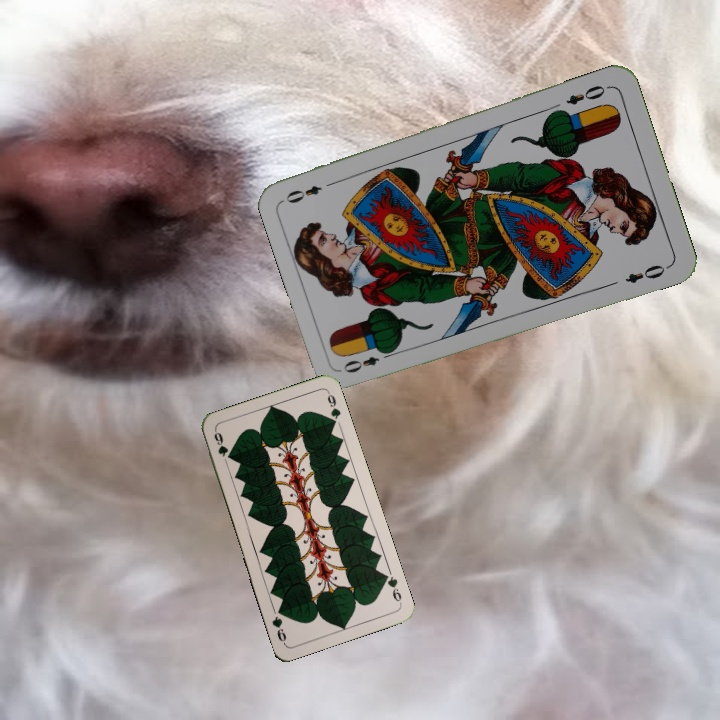EO: (339, 346, 396, 376), (562, 81, 612, 108)
G9: (378, 569, 404, 606), (210, 427, 230, 466)
